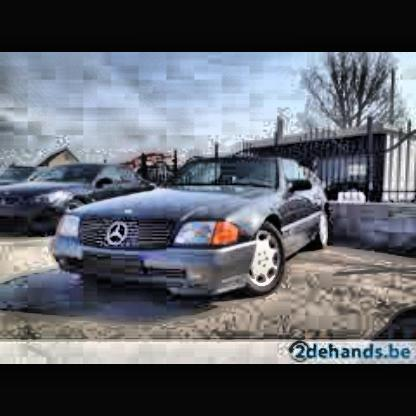Mercedes-Benz 300-Class Convertible 1993: (55, 162, 334, 288)
